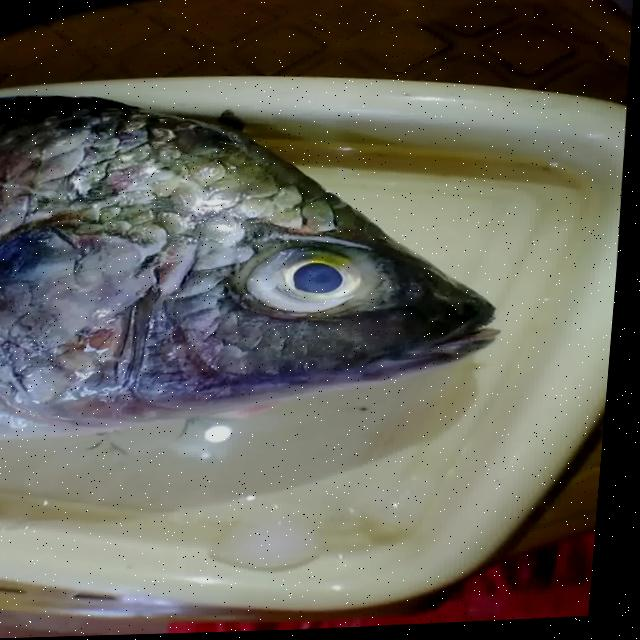Fresh: (192, 231, 395, 340)
